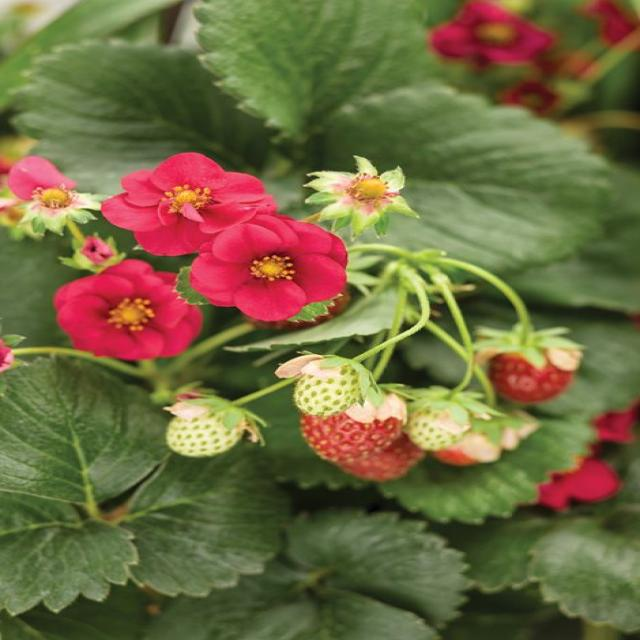Ripe Strawberry: (301, 392, 426, 479), (490, 338, 575, 405)
